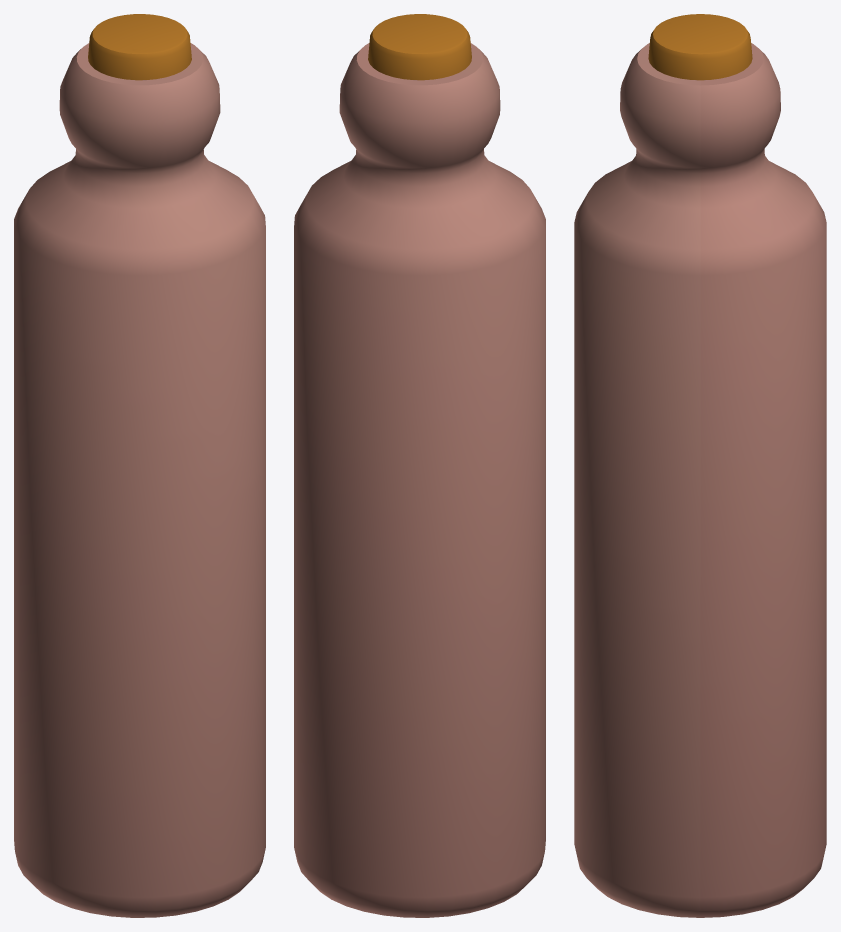
The model's file is M_Bottle_4.fbx.
3 views of the same model, side by side, from view 1: azimuth 30°, elevation 25°; view 2: azimuth 150°, elevation 25°; view 3: azimuth 270°, elevation 25° (orthographic).
Visible parts, largest first — view 1: Bottle_4; view 2: Bottle_4; view 3: Bottle_4.
Boxes of the visible parts, x1,y1,x2,y2 form: Bottle_4: (14,14,265,917); Bottle_4: (294,14,545,917); Bottle_4: (574,14,826,917).
Bounding box in the file's own units: 7.84 × 29.09 × 7.84.
